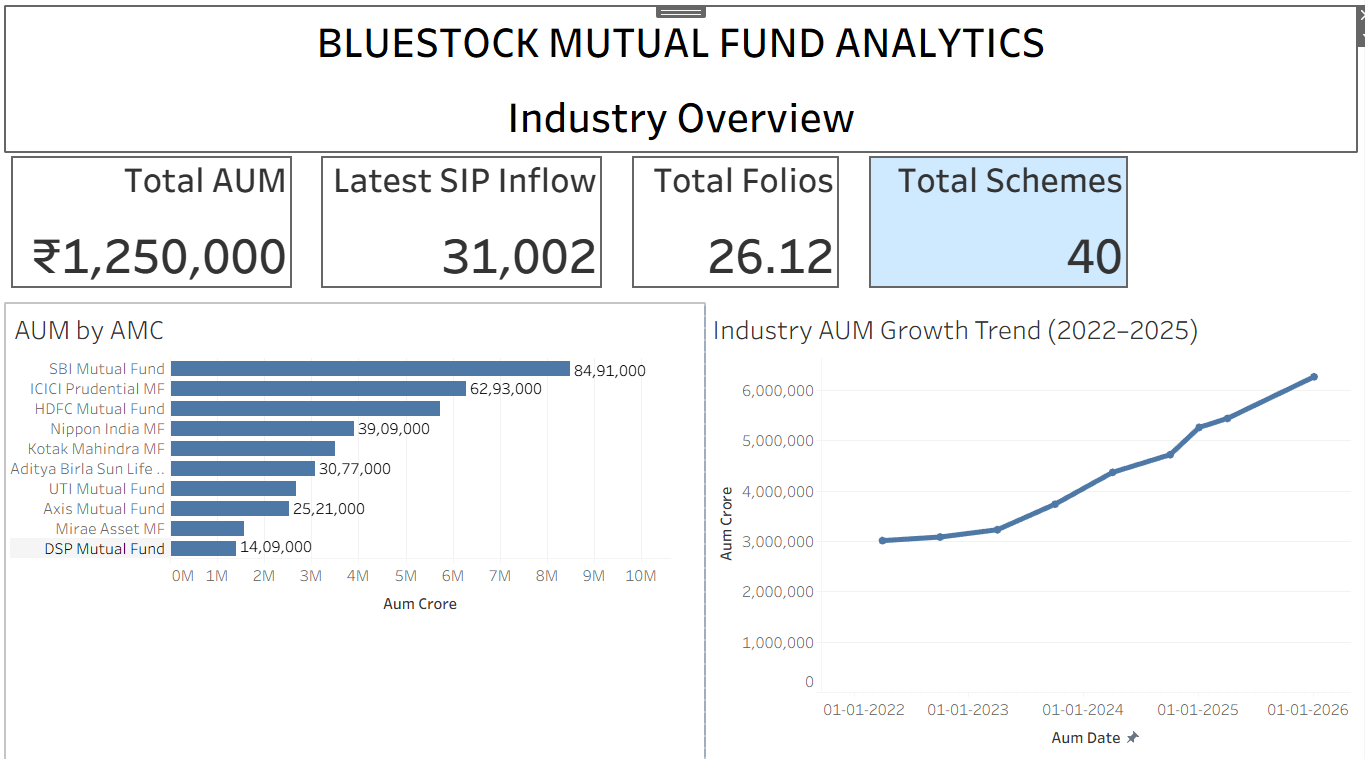

Layout of this report page (visuals, bound fields, positions):
{"tool":"tableau","page":{"name":"Industry Overview","canvas":[1366,768],"ordinal":1},"visuals":[{"type":"text","box":[8,8,1350,144]},{"type":"worksheet","title":"KPI_AUM","mark":"Automatic","box":[8,152,310,153]},{"type":"worksheet","title":"KPI_SIP","mark":"Automatic","box":[318,152,311,153]},{"type":"worksheet","title":"KPI_Folios","mark":"Automatic","box":[629,152,237,153]},{"type":"worksheet","title":"KPI_Schemes","mark":"Automatic","box":[866,152,306,153]},{"type":"worksheet","title":"AMC_AUM_Bar","mark":"Automatic","rows":["fund_house"],"cols":["aum_crore"],"box":[8,305,698.5,455]},{"type":"worksheet","title":"Industry_AUM_Trend","mark":"Automatic","rows":["aum_crore"],"cols":["aum_date"],"box":[706.5,305,651.5,455]}]}

Visuals, with their boxes in screenshot pixels (x1, y1, x2, y2), scaled from the page's 1366x768 canvas onto the 1365x759 screenshot:
text: l=8, t=8, r=1357, b=150
"KPI_AUM" worksheet: l=8, t=150, r=318, b=301
"KPI_SIP" worksheet: l=318, t=150, r=629, b=301
"KPI_Folios" worksheet: l=629, t=150, r=865, b=301
"KPI_Schemes" worksheet: l=865, t=150, r=1171, b=301
"AMC_AUM_Bar" worksheet: l=8, t=301, r=706, b=751
"Industry_AUM_Trend" worksheet: l=706, t=301, r=1357, b=751
